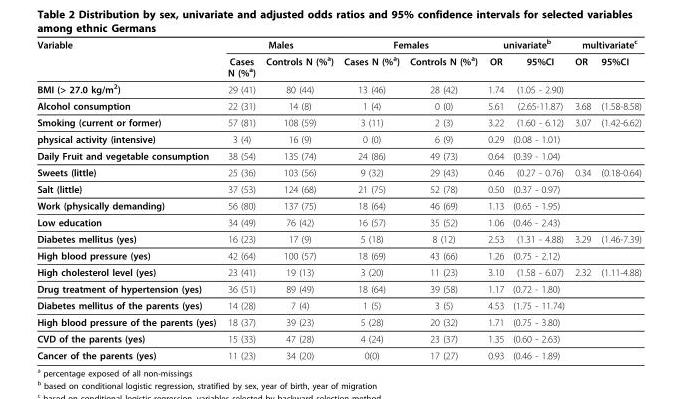table: (36, 37, 640, 360)
table column: (36, 37, 221, 360), (260, 37, 338, 360), (404, 37, 482, 360), (338, 37, 404, 360), (507, 37, 569, 360), (595, 37, 640, 360), (221, 37, 260, 360), (569, 37, 595, 360), (482, 37, 507, 360)
table column header: (36, 37, 640, 79)
table row: (36, 51, 640, 79), (36, 79, 640, 97), (36, 113, 640, 130), (36, 130, 640, 147), (36, 163, 640, 180), (36, 180, 640, 197), (36, 213, 640, 230), (36, 246, 640, 263), (36, 263, 640, 280), (36, 296, 640, 313), (36, 313, 640, 330), (36, 97, 640, 113), (36, 147, 640, 163), (36, 197, 640, 213), (36, 230, 640, 246), (36, 280, 640, 296), (36, 330, 640, 346), (36, 37, 640, 51), (36, 346, 640, 360)
table spanning cell: (36, 37, 221, 79), (338, 37, 482, 51), (221, 37, 338, 51), (482, 37, 569, 51), (569, 37, 640, 51)
